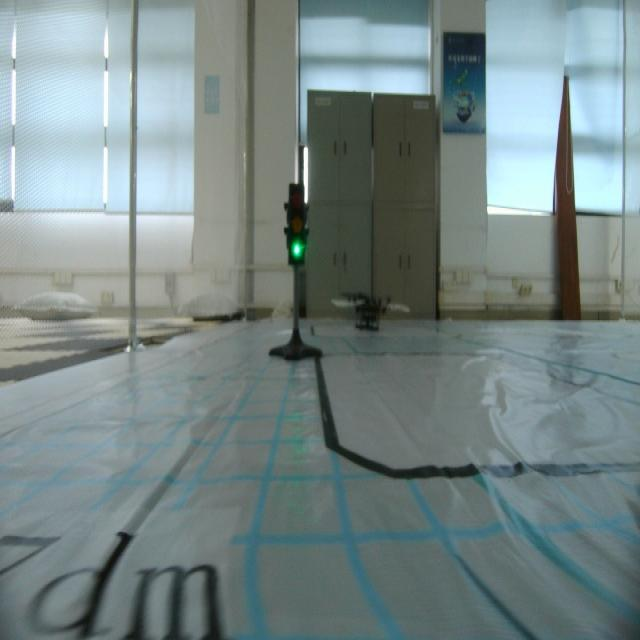green: (283, 176, 309, 263)
